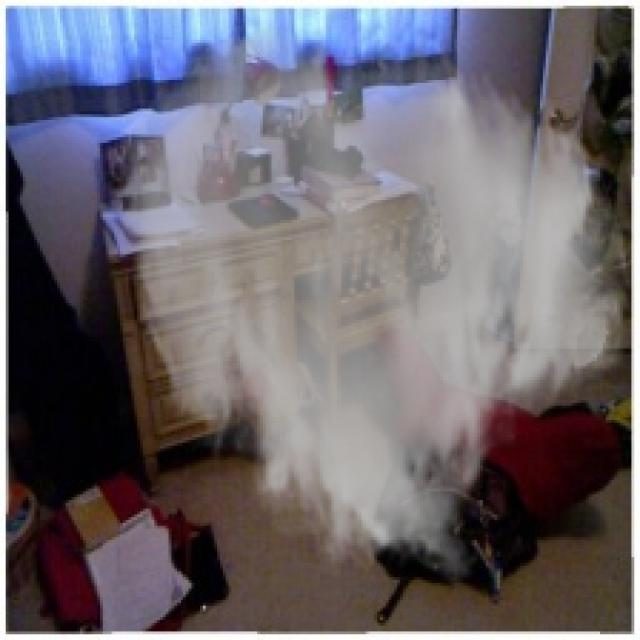smoke: (111, 23, 634, 588)
